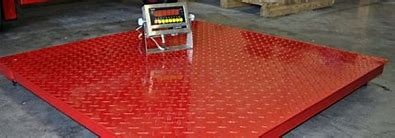Industrial Scale: (1, 1, 393, 138)
